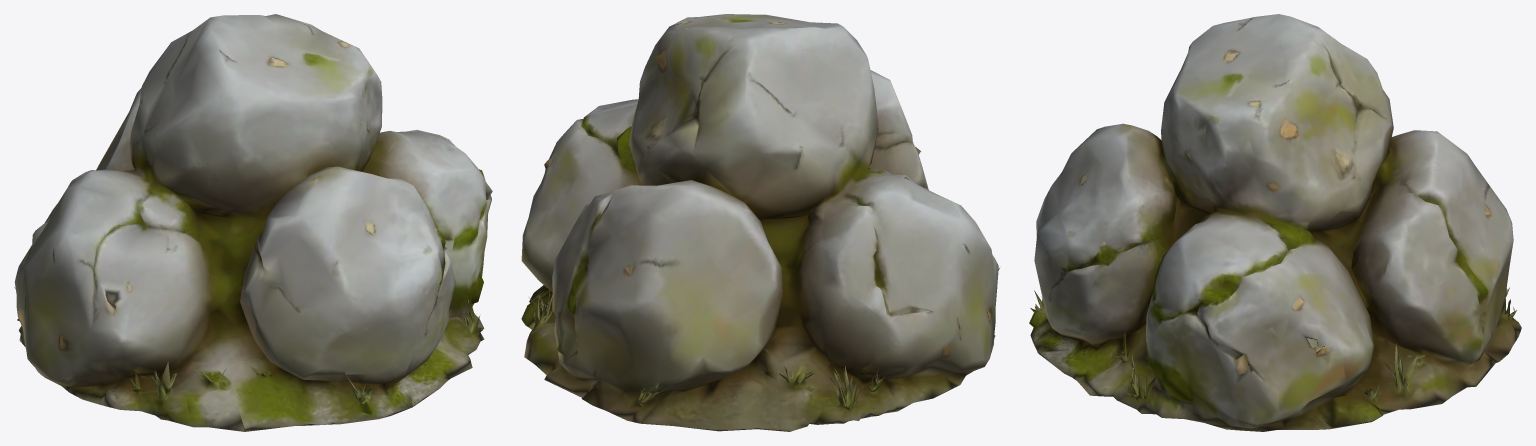
Rendered from rock_3.glb.
3 renders of one model, left to right at view 1: azimuth 30°, elevation 25°; view 2: azimuth 150°, elevation 25°; view 3: azimuth 270°, elevation 25°, orthographic. The views are drawn at different scales.
Visible parts, largest first — view 1: Fable_rock_3; view 2: Fable_rock_3; view 3: Fable_rock_3.
Boxes of the visible parts, left/top/right/bottom form: Fable_rock_3: left=14, top=14, right=492, bottom=431; Fable_rock_3: left=521, top=14, right=999, bottom=431; Fable_rock_3: left=1029, top=14, right=1521, bottom=431.
Size of the model in its own units: 3.49 by 2.32 by 3.41.
1 material, 1 textured.
